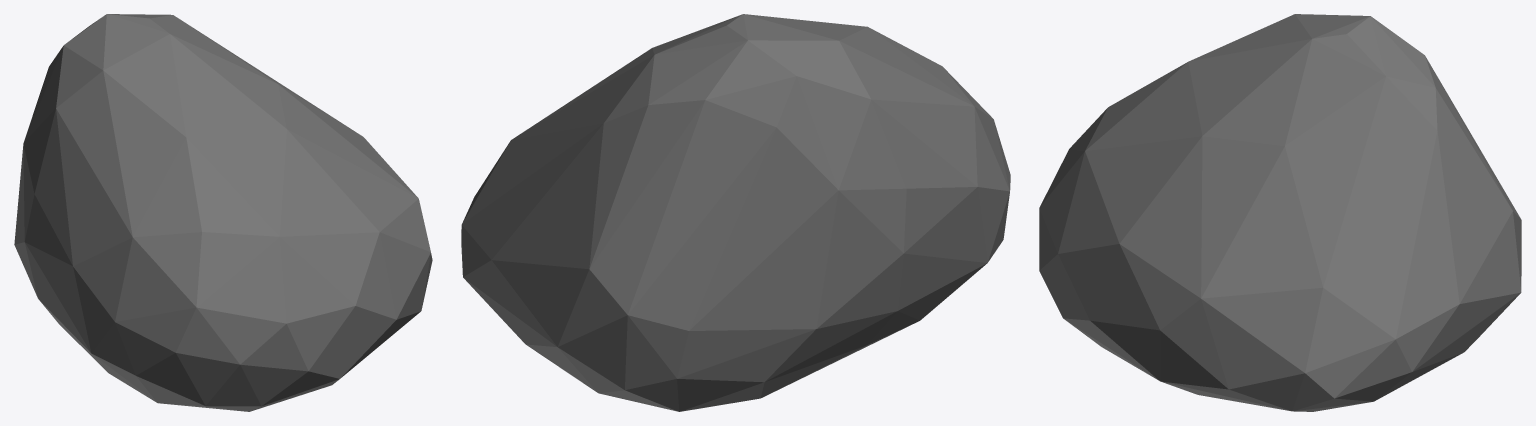
The model's file is rock_01.glb.
3 views of the same model, side by side, from view 1: azimuth 30°, elevation 25°; view 2: azimuth 150°, elevation 25°; view 3: azimuth 270°, elevation 25° (orthographic). The views are drawn at different scales.
Parts seen in each view (by area): view 1: Icosphere; view 2: Icosphere; view 3: Icosphere.
Part boxes in pixels (bbox=[...]): Icosphere: bbox=[14, 14, 432, 411]; Icosphere: bbox=[461, 14, 1010, 411]; Icosphere: bbox=[1039, 14, 1521, 411].
Size of the model in its own units: 1.56 by 1.18 by 1.69.
1 material, 1 textured.
